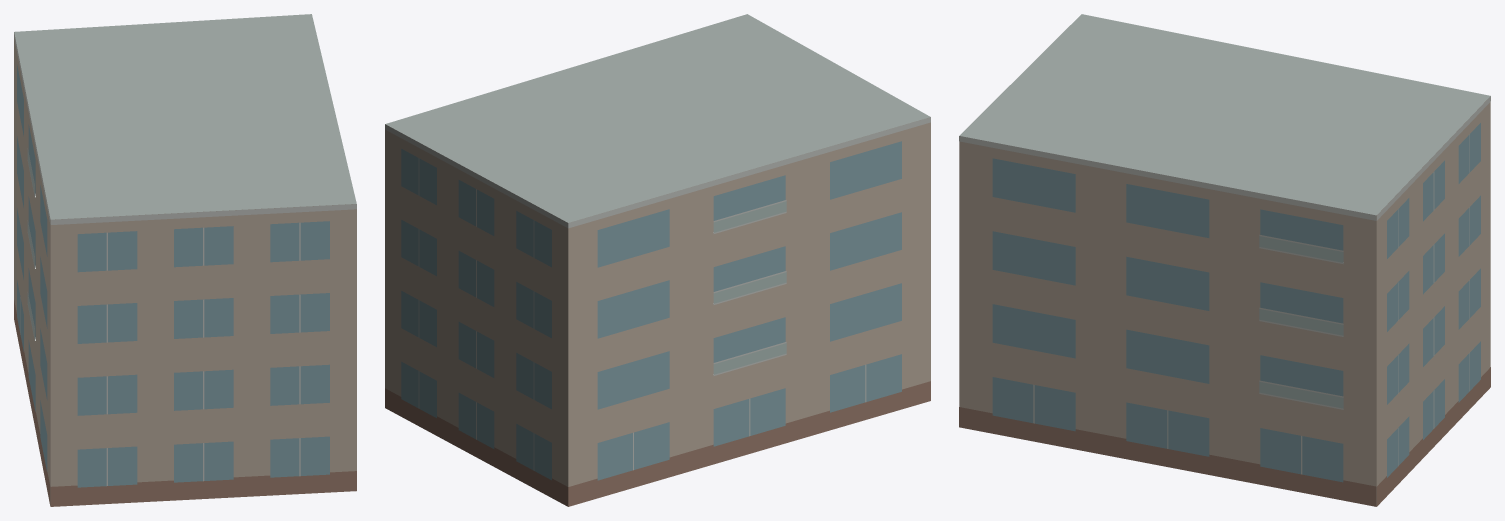
Rendered from survey-upis-32604146.glb.
3 views of the same model, side by side, from view 1: azimuth 30°, elevation 25°; view 2: azimuth 150°, elevation 25°; view 3: azimuth 270°, elevation 25° (orthographic). The views are drawn at different scales.
Visible parts, largest first — view 1: survey-upis-32604146.tmp; view 2: survey-upis-32604146.tmp; view 3: survey-upis-32604146.tmp.
Boxes of the visible parts, x1,y1,x2,y2 form: survey-upis-32604146.tmp: [14, 14, 356, 506]; survey-upis-32604146.tmp: [385, 14, 930, 506]; survey-upis-32604146.tmp: [959, 14, 1490, 506].
Size of the model in its own units: 18.91 by 12.75 by 21.09.
